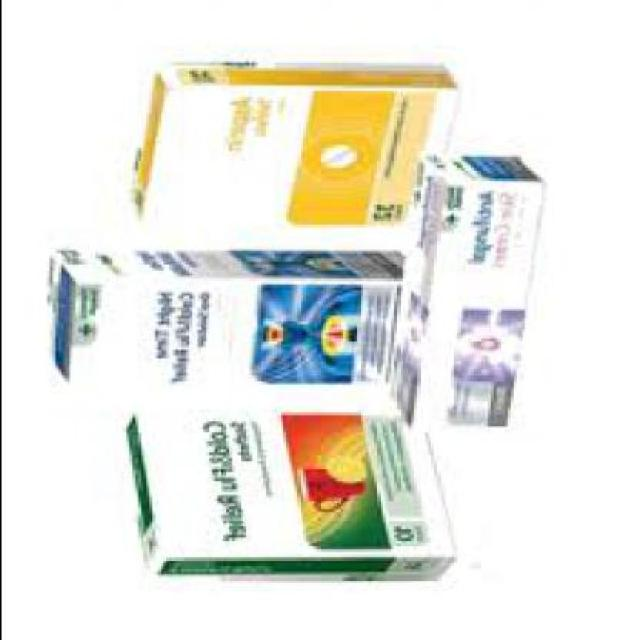CARDBOARD: (117, 410, 452, 575), (42, 244, 404, 396), (126, 62, 452, 222), (381, 153, 541, 421)
